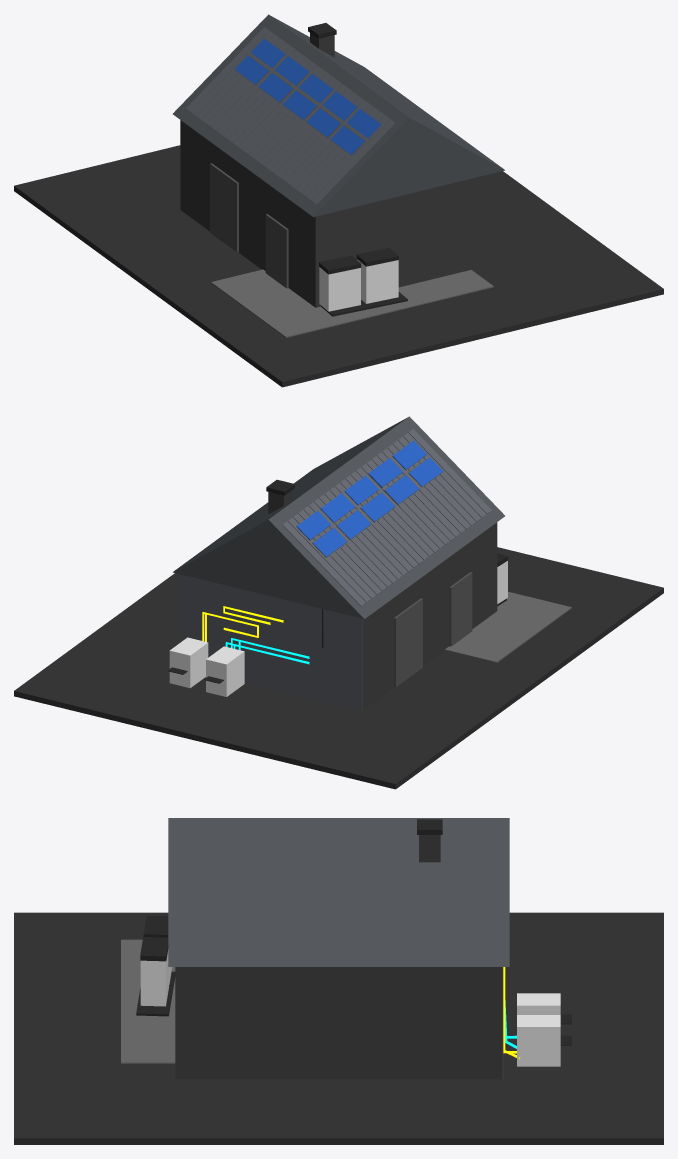
The model's file is House.glb.
3 views of the same model, one above another, from view 1: azimuth 30°, elevation 25°; view 2: azimuth 150°, elevation 25°; view 3: azimuth 270°, elevation 25° (orthographic). The views are drawn at different scales.
Parts seen in each view (by area): view 1: Sol_Noir_Mat, Maison_Base, Toit_Principal, Dalle_Paves_Avant, Fenetre_Cadre_1, Batterie_Module_2, Porte_Cadre, Batterie_Module_1, Ligne_Tuile_-12, Ligne_Tuile_12, Ligne_Tuile_-7, Ligne_Tuile_7 (+5 smaller); view 2: Sol_Noir_Mat, Toit_Principal, Façade_Technique_Gris, Maison_Base, Dalle_Paves_Avant, Fenetre_Cadre_1, PAC_1_Corps, PAC_2_Corps, Porte_Cadre, Ligne_Tuile_12, Ligne_Tuile_-12, Ligne_Tuile_7 (+6 smaller); view 3: Sol_Noir_Mat, Toit_Principal, Maison_Base, Dalle_Paves_Avant, PAC_2_Corps, Batterie_Module_1, PAC_1_Corps, Batterie_Top_1, Cheminee, Batterie_Socle, Batterie_Top_2.
Boxes of the visible parts, x1,y1,x2,y2 form: Sol_Noir_Mat: (14,145,663,387); Maison_Base: (180,120,497,307); Toit_Principal: (173,14,504,216); Dalle_Paves_Avant: (211,269,493,337); Fenetre_Cadre_1: (210,163,238,252); Batterie_Module_2: (319,267,360,311); Porte_Cadre: (265,214,288,288); Batterie_Module_1: (357,259,398,303); Ligne_Tuile_-12: (312,119,395,203); Ligne_Tuile_12: (186,27,269,111); Ligne_Tuile_-7: (286,100,369,184); Ligne_Tuile_7: (212,46,295,131); Sol_Noir_Mat: (14,547,663,789); Toit_Principal: (173,416,504,618); Façade_Technique_Gris: (180,574,362,710); Maison_Base: (362,522,497,710); Dalle_Paves_Avant: (445,591,571,662); Fenetre_Cadre_1: (394,598,422,687); PAC_1_Corps: (206,646,244,696); PAC_2_Corps: (169,637,208,688); Porte_Cadre: (449,572,472,646); Ligne_Tuile_12: (282,521,365,605); Ligne_Tuile_-12: (408,429,491,513); Ligne_Tuile_7: (308,502,391,586); Sol_Noir_Mat: (14,912,663,1144); Toit_Principal: (168,818,509,966); Maison_Base: (175,967,502,1079); Dalle_Paves_Avant: (121,939,175,1063); PAC_2_Corps: (517,1015,560,1066); Batterie_Module_1: (140,950,168,1006); PAC_1_Corps: (517,993,560,1014); Batterie_Top_1: (140,937,168,961); Cheminee: (419,835,440,862); Batterie_Socle: (136,971,175,1016); Batterie_Top_2: (143,915,168,937).
Bounding box in the file's own units: 14.69 × 6.68 × 17.89.
